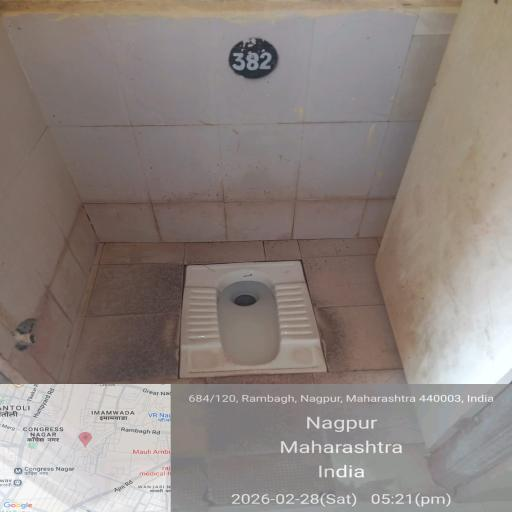clean_indian: (174, 256, 328, 376)
partial_dirty_floor: (46, 223, 492, 512), (22, 30, 512, 177)
